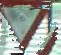Give way: (1, 0, 48, 51)
